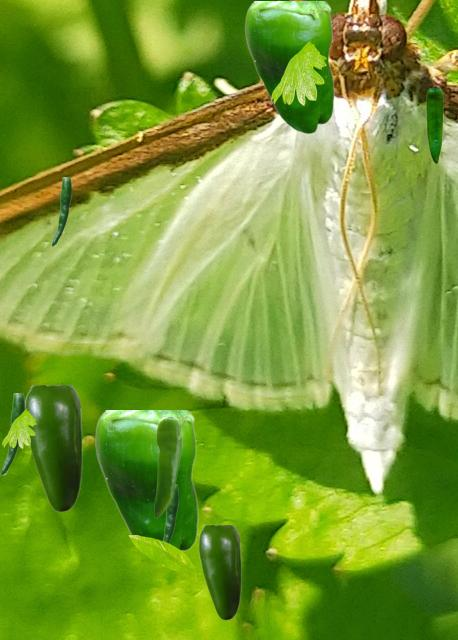green_chili: (94, 410, 197, 551), (244, 1, 333, 133), (25, 385, 81, 511), (199, 525, 240, 619), (154, 417, 181, 517), (0, 393, 23, 474), (51, 177, 70, 245), (426, 88, 442, 162), (162, 484, 177, 542)
